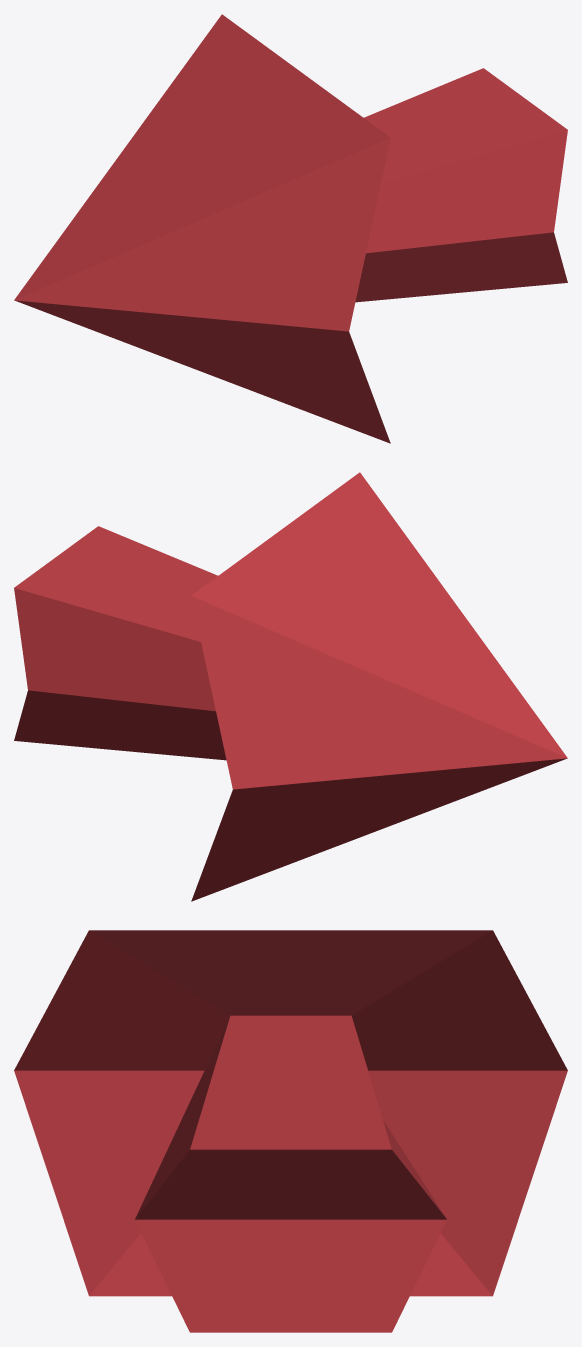
The model's file is arrow.glb.
The picture shows the model from 3 angles, top to bottom: view 1: azimuth 30°, elevation 25°; view 2: azimuth 150°, elevation 25°; view 3: azimuth 270°, elevation 25°; orthographic projection. The views are drawn at different scales.
Parts seen in each view (by area): view 1: arrow; view 2: arrow; view 3: arrow.
Part boxes in pixels (bbox=[...]): arrow: bbox=[14, 14, 567, 443]; arrow: bbox=[14, 472, 567, 901]; arrow: bbox=[14, 930, 567, 1332].
Size of the model in its own units: 7 by 4 by 5.49.
